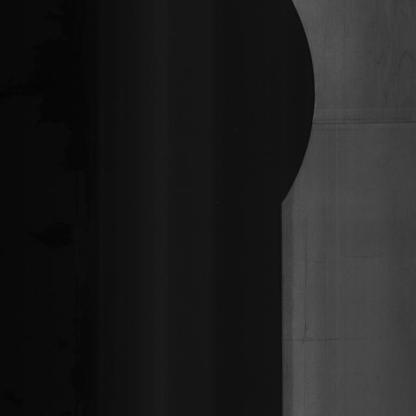welding_line: (307, 104, 413, 144)
